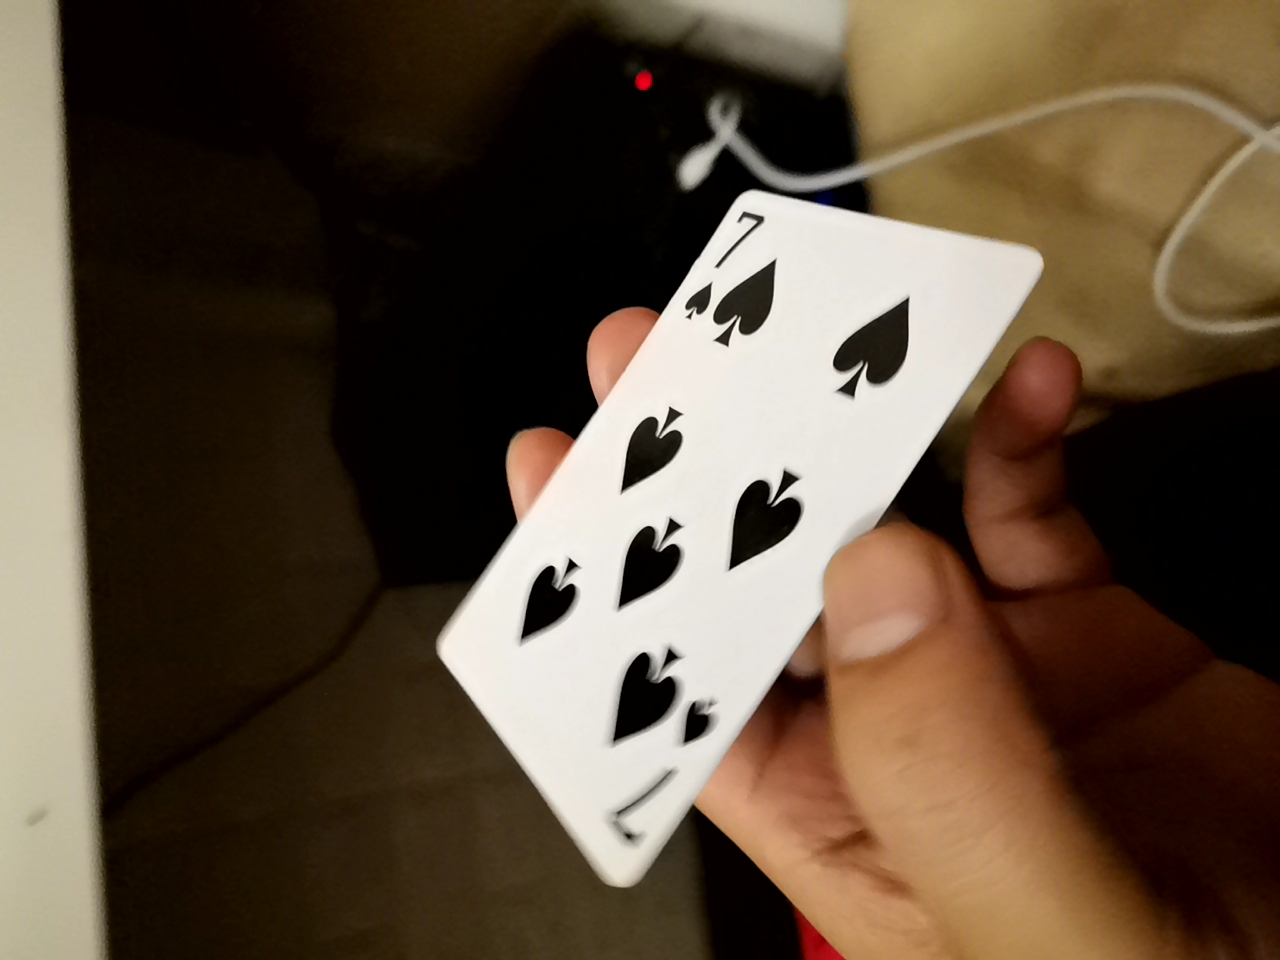ht 7: (454, 143, 1036, 856)
